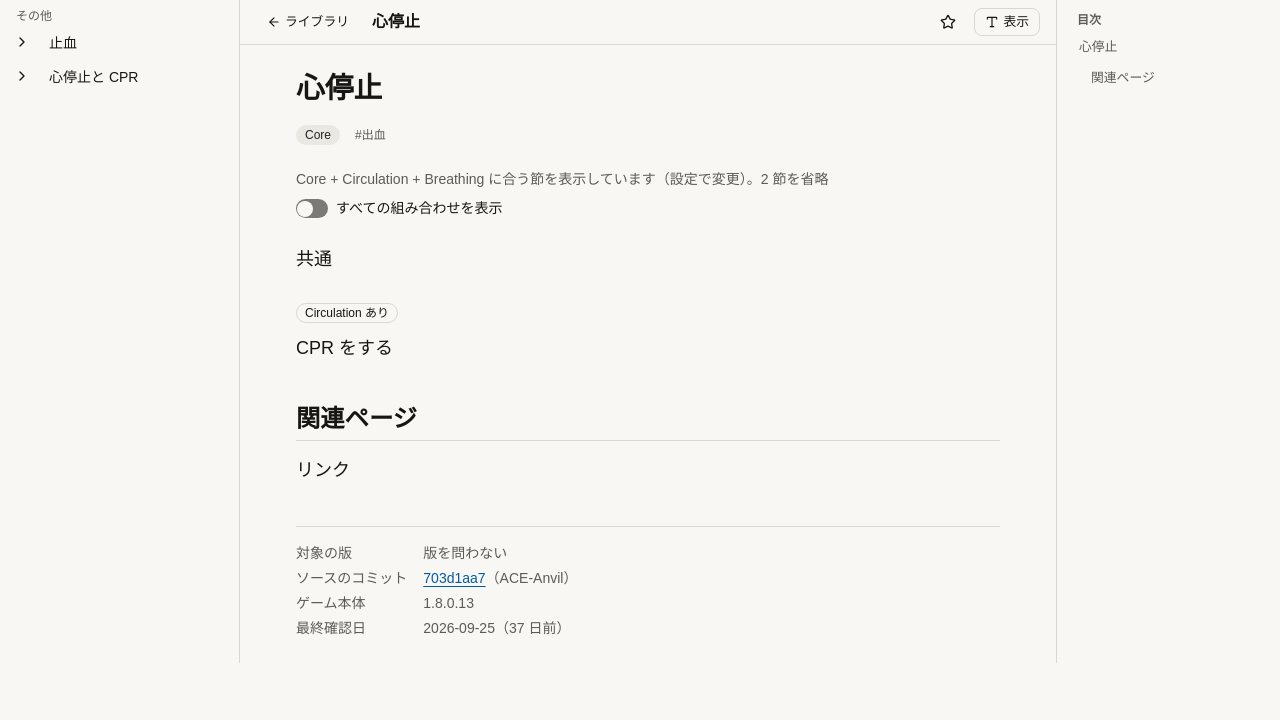
DocPage › 設定の MOD に合わない節を外し、合う節は見出しの代わりにラベルで出し、スイッチですべて出す
The width and height of the screenshot is (1280, 720).
Expected: the text "CPR をする" is shown, top-left (296, 338), bottom-right (393, 358)
Expected: the heading "Circulation を入れている場合" is not shown
Click the switch named "すべての組み合わせを表示".
click(312, 209)  # box top-left (296, 199), bottom-right (328, 218)
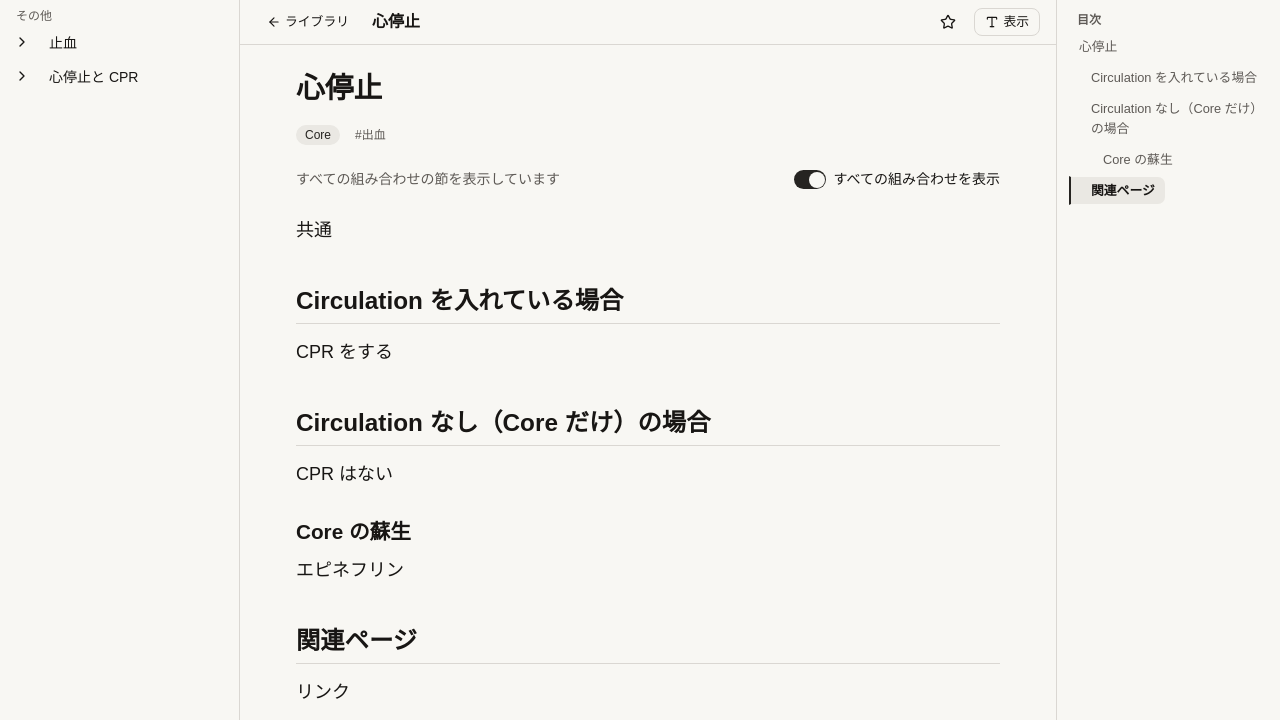
Now the heading "Circulation を入れている場合" is shown, box top-left (296, 285), bottom-right (1000, 324)
Now the heading "Circulation なし（Core だけ）の場合" is shown, box top-left (296, 408), bottom-right (1000, 446)
Now the heading "Core の蘇生" is shown, box top-left (296, 520), bottom-right (411, 543)
